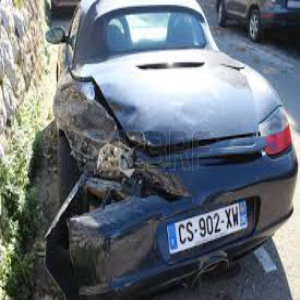bumper: (59, 181, 177, 296)
